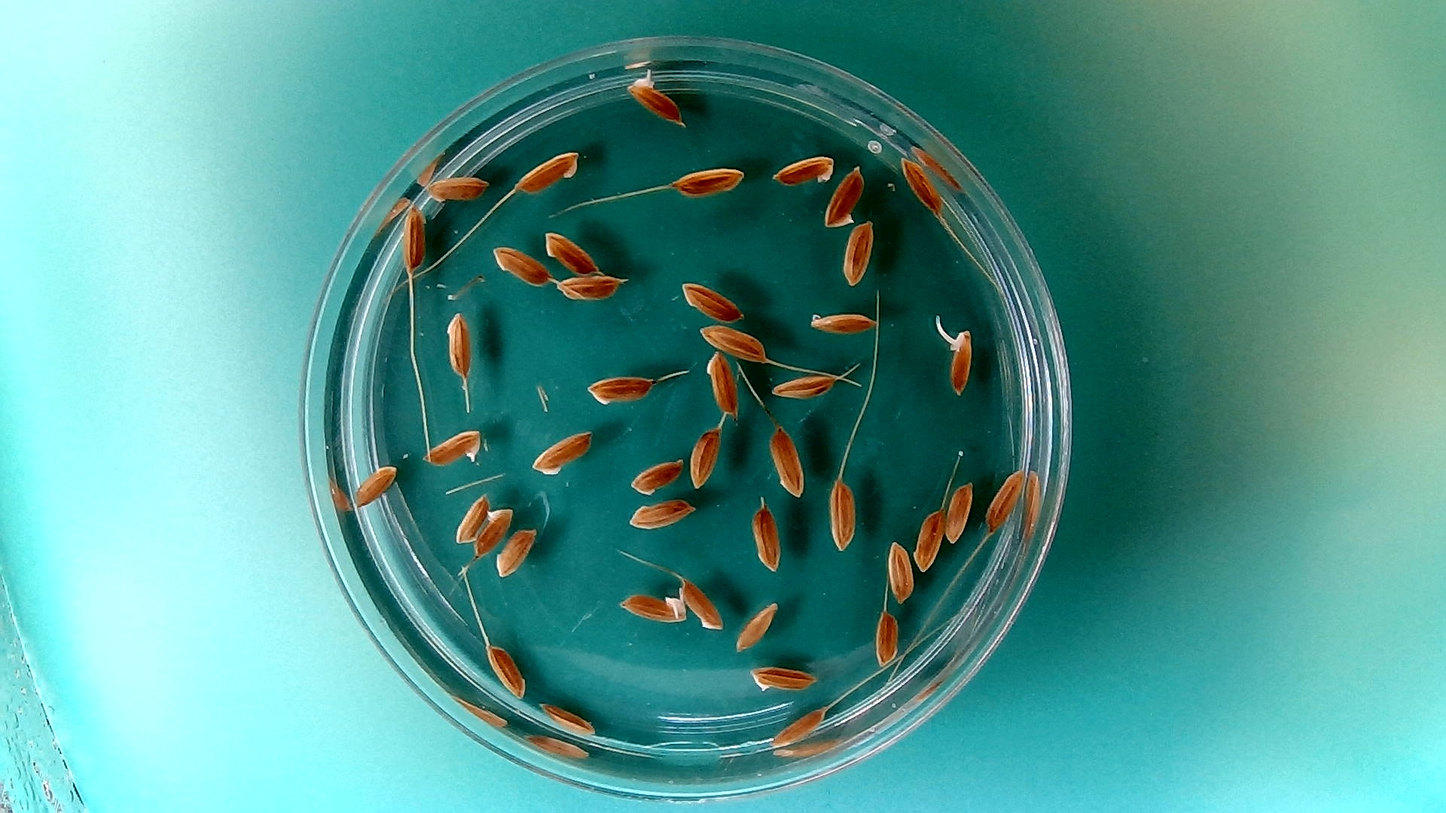no: (529, 425, 595, 478), (822, 160, 868, 230), (514, 146, 581, 194), (678, 277, 746, 324), (982, 465, 1027, 536), (767, 423, 807, 500), (696, 321, 769, 362), (489, 242, 553, 288), (898, 154, 945, 216), (540, 227, 603, 273), (748, 498, 785, 574), (420, 425, 484, 468), (767, 704, 828, 749), (671, 163, 747, 199), (585, 371, 656, 409), (702, 348, 740, 419), (838, 217, 876, 288), (678, 575, 724, 633), (469, 502, 515, 560), (734, 598, 781, 654), (486, 640, 529, 701), (825, 475, 859, 552), (865, 605, 908, 665), (493, 524, 539, 579), (625, 496, 697, 531), (769, 150, 837, 187), (687, 421, 723, 490), (627, 454, 686, 496), (744, 662, 819, 694), (425, 169, 491, 205), (538, 699, 598, 738), (554, 271, 626, 303), (805, 305, 879, 336), (352, 460, 399, 508), (444, 309, 474, 383), (911, 507, 944, 574), (943, 479, 976, 546), (450, 489, 489, 544), (885, 538, 917, 605), (768, 369, 836, 400), (399, 202, 428, 273)
yes: (622, 67, 685, 127), (615, 588, 688, 625), (947, 327, 975, 397)
